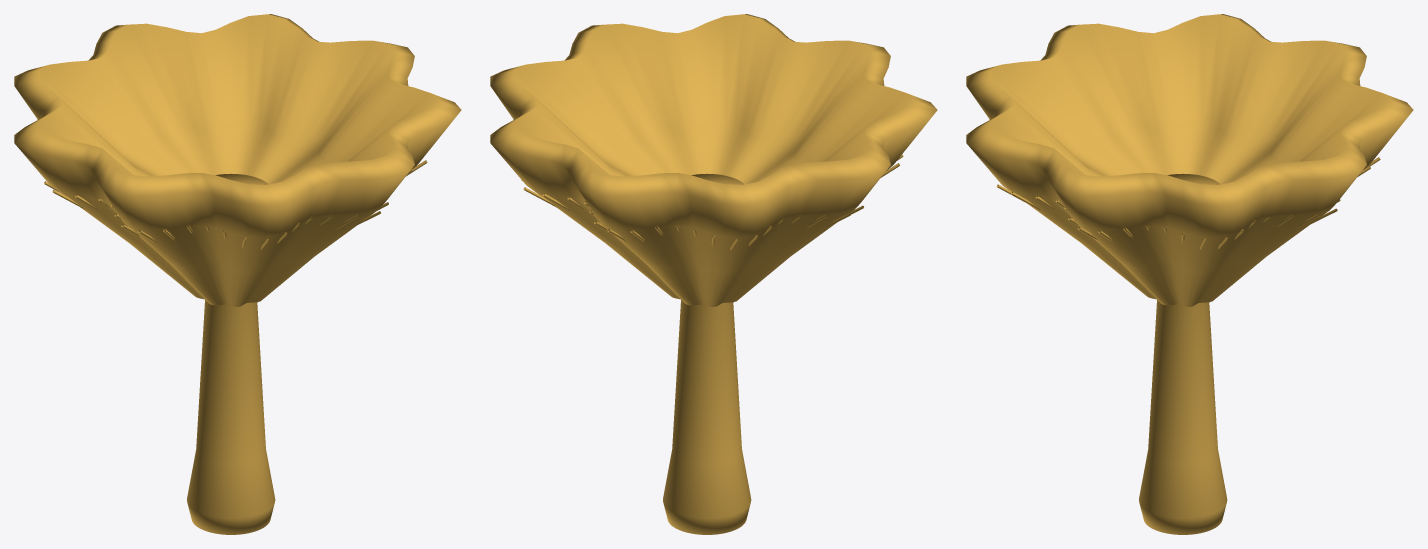
File: chanterelle.glb
3 views of the same model, side by side, from view 1: azimuth 30°, elevation 25°; view 2: azimuth 150°, elevation 25°; view 3: azimuth 270°, elevation 25° (orthographic).
Visible parts, largest first — view 1: chanterelle; view 2: chanterelle; view 3: chanterelle.
Boxes of the visible parts, x1,y1,x2,y2 form: chanterelle: (14,14,461,534); chanterelle: (490,14,937,534); chanterelle: (966,14,1413,534).
Bounding box in the file's own units: 0.9833 × 1 × 0.9686.
